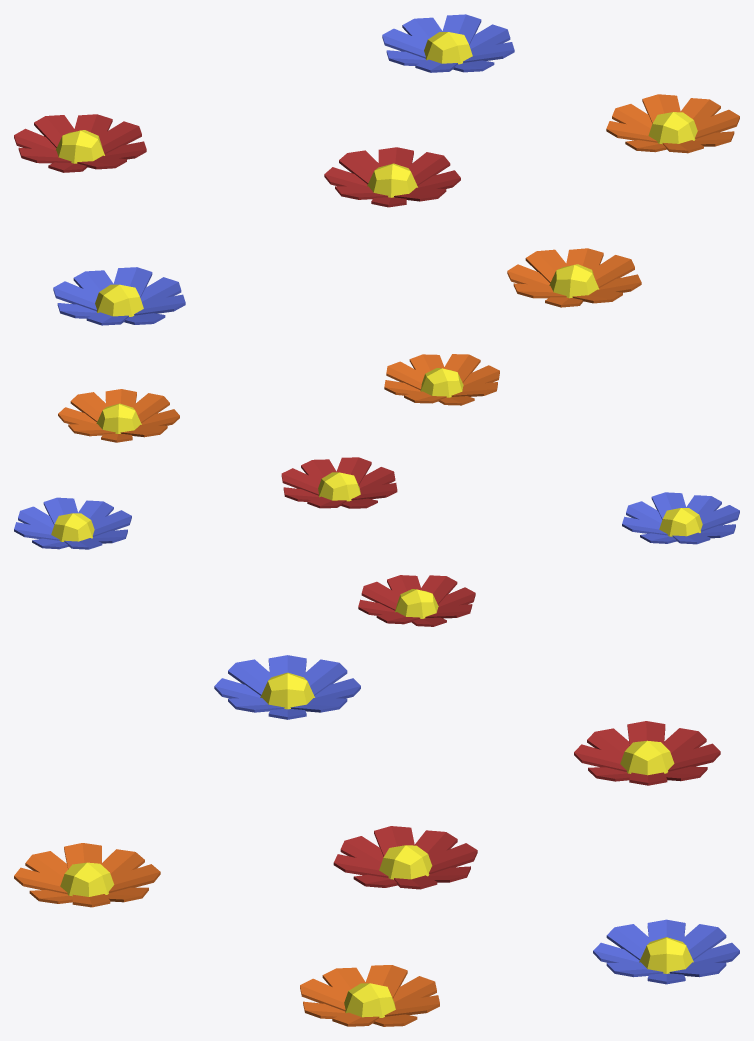
Rendered from Flowers.fbx.
The picture shows the model from 3 angles, top to bottom: view 1: azimuth 30°, elevation 25°; view 2: azimuth 150°, elevation 25°; view 3: azimuth 270°, elevation 25°; orthographic projection. The views are drawn at different scales.
Visible parts, largest first — view 1: Flowers; view 2: Flowers; view 3: Flowers.
Boxes of the visible parts, <box> form: Flowers: <box>14,14,739,325</box>; Flowers: <box>14,354,739,626</box>; Flowers: <box>14,655,739,1026</box>.
Size of the model in its own units: 0.8003 by 0.0287 by 0.6628.
